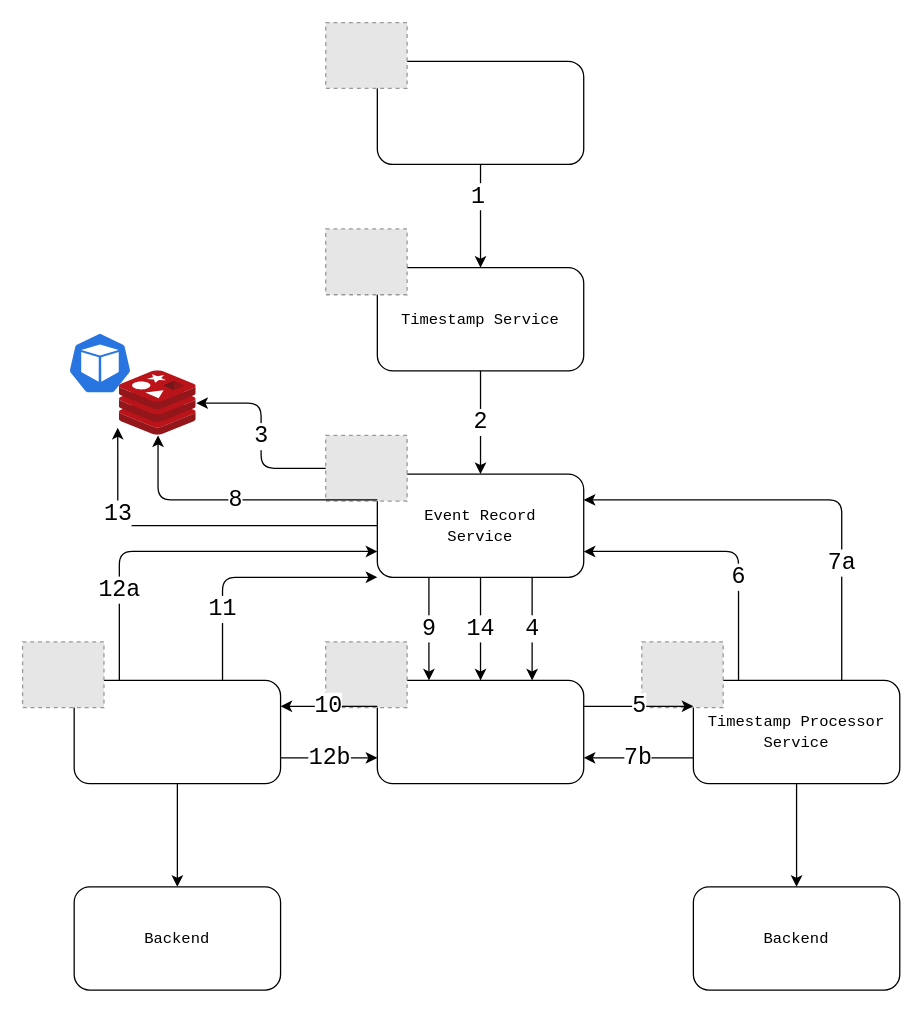
The diagram is 922 pixels wide and 1013 high, and some of its shapes have lost their labels. Grey dashed boxes stand in for pictures. Here are the shapes that lost their labels. From the top down, the box of each, then its label:
(376, 60, 584, 164): PingSource
(73, 679, 281, 784): Data Processor Service
(376, 679, 584, 784): Knative Broker
